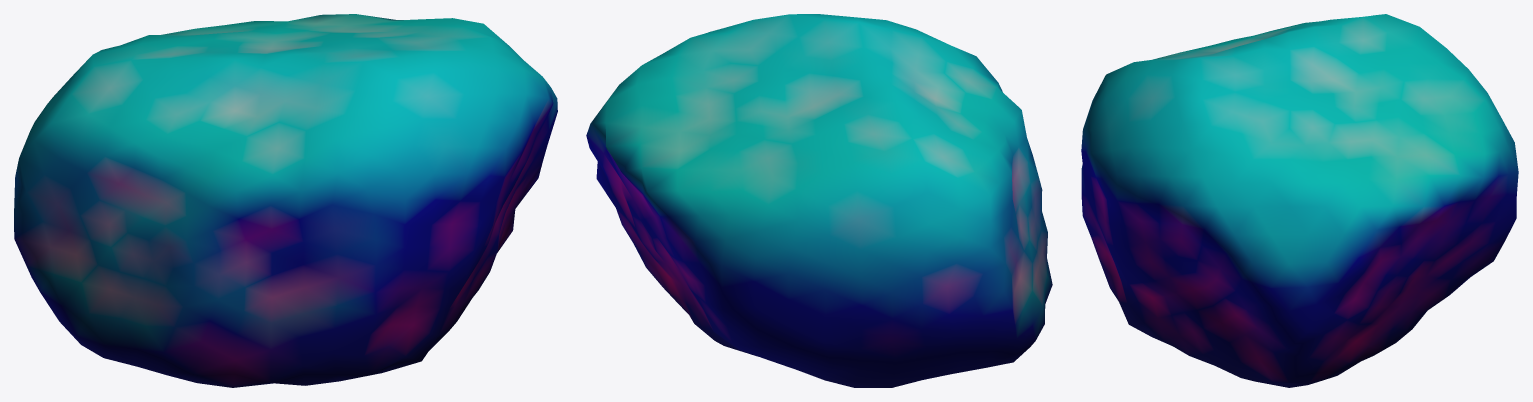
Rendered from RockAngular_1_lod0.glb.
3 views of the same model, side by side, from view 1: azimuth 30°, elevation 25°; view 2: azimuth 150°, elevation 25°; view 3: azimuth 270°, elevation 25° (orthographic). The views are drawn at different scales.
Parts seen in each view (by area): view 1: RockAngular_1_lod0; view 2: RockAngular_1_lod0; view 3: RockAngular_1_lod0.
Boxes of the visible parts, left/top/right/bottom form: RockAngular_1_lod0: left=14, top=14, right=557, bottom=387; RockAngular_1_lod0: left=586, top=14, right=1052, bottom=387; RockAngular_1_lod0: left=1081, top=14, right=1518, bottom=387.
Size of the model in its own units: 2.32 by 1.35 by 1.92.
